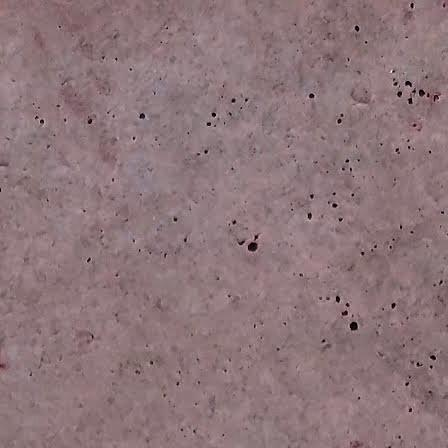spalling: (390, 75, 446, 120)
